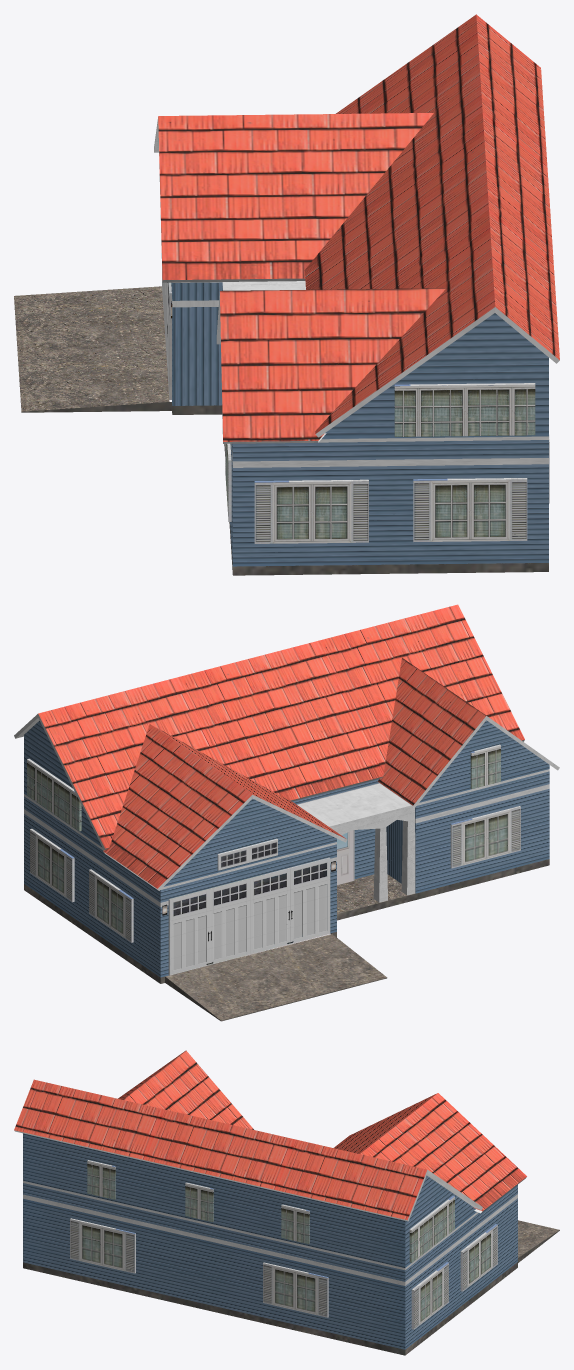
The model's file is house_08__9_.FBX.
3 renders of one model, top to bottom at view 1: azimuth 30°, elevation 25°; view 2: azimuth 150°, elevation 25°; view 3: azimuth 270°, elevation 25°, orthographic. The views are drawn at different scales.
Parts seen in each view (by area): view 1: house_08__9_; view 2: house_08__9_; view 3: house_08__9_.
Boxes of the visible parts, x1,y1,x2,y2 form: house_08__9_: [14, 14, 559, 575]; house_08__9_: [14, 604, 559, 1021]; house_08__9_: [14, 1050, 559, 1355].
Size of the model in its own units: 187 by 89 by 253.
